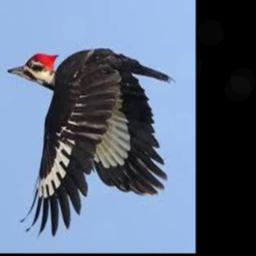Woodpecker: (7, 46, 176, 235)
